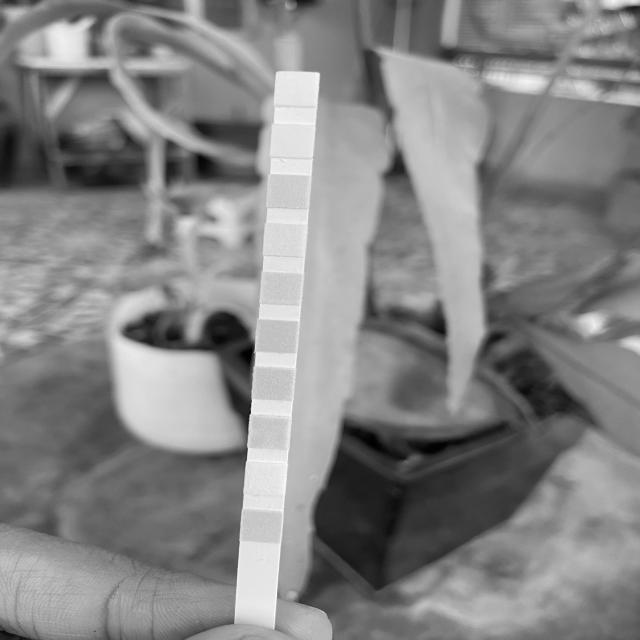Bilirubin: (247, 463, 285, 493)
Blood: (257, 322, 297, 351)
Glucose: (241, 512, 281, 542)
Ketone: (250, 417, 290, 447)
Leukocytes: (276, 73, 318, 106)
Nitrite: (272, 126, 313, 156)
Protein: (265, 225, 305, 255)
SpGravity: (254, 368, 294, 399)
Urobilinogen: (268, 177, 309, 206)
background: (0, 0, 640, 640)
pH: (262, 274, 301, 304)
strip: (235, 71, 319, 621)
